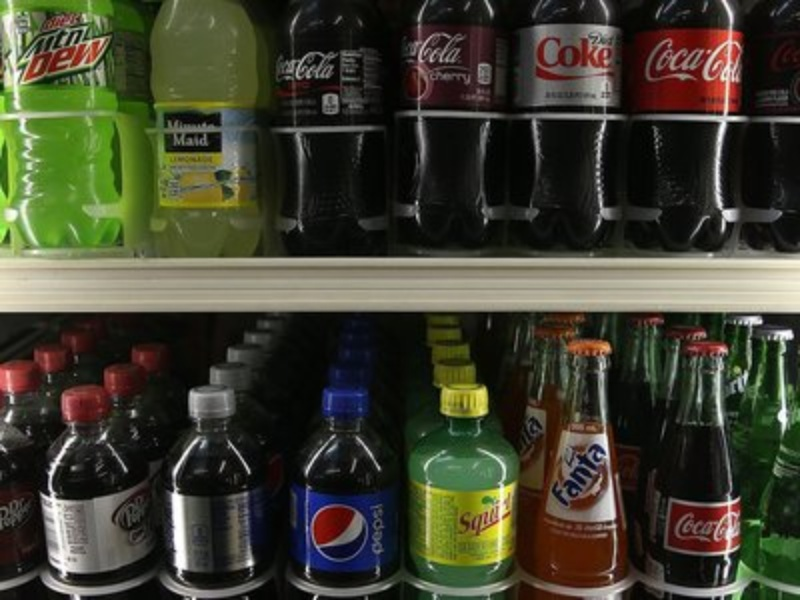Glass bottle: (637, 322, 751, 600), (524, 324, 631, 588)
Plastic bottle: (607, 1, 754, 245), (133, 6, 274, 253), (379, 365, 532, 589), (251, 366, 414, 575), (257, 8, 395, 251), (508, 1, 628, 269), (12, 382, 164, 577), (396, 10, 509, 254), (141, 378, 272, 585)
